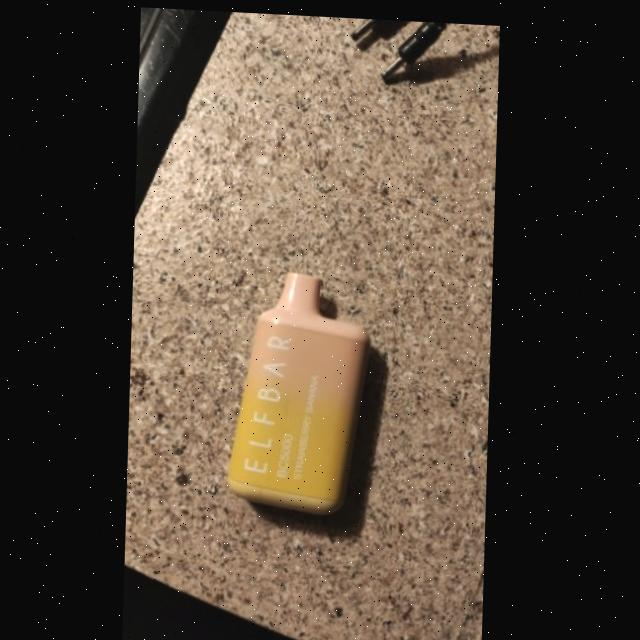vape: (229, 267, 373, 514)
